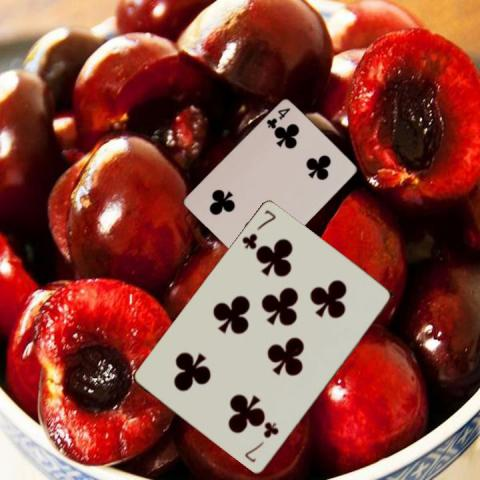4c: (263, 105, 292, 131)
7c: (239, 207, 277, 251), (243, 420, 280, 465)
